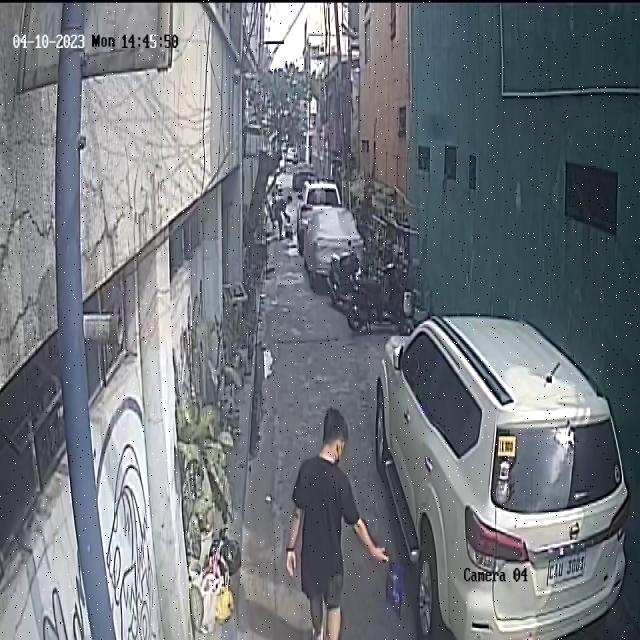human: (285, 407, 406, 640)
trash: (383, 541, 404, 623)
